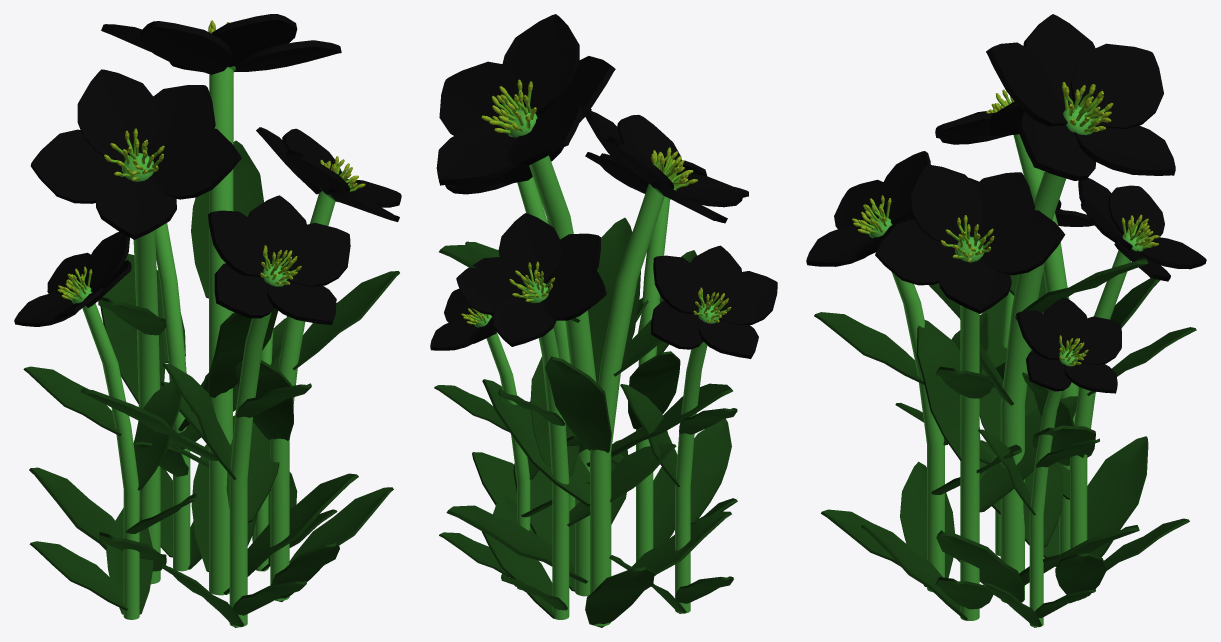
Rendered from helleborus.fbx.
3 views of the same model, side by side, from view 1: azimuth 30°, elevation 25°; view 2: azimuth 150°, elevation 25°; view 3: azimuth 270°, elevation 25° (orthographic). The views are drawn at different scales.
Visible parts, largest first — view 1: helleborus; view 2: helleborus; view 3: helleborus.
Boxes of the visible parts, x1,y1,x2,y2 form: helleborus: (14,14,401,627); helleborus: (430,14,777,627); helleborus: (806,14,1206,627).
Size of the model in its own units: 0.5589 by 0.8811 by 0.5553.
